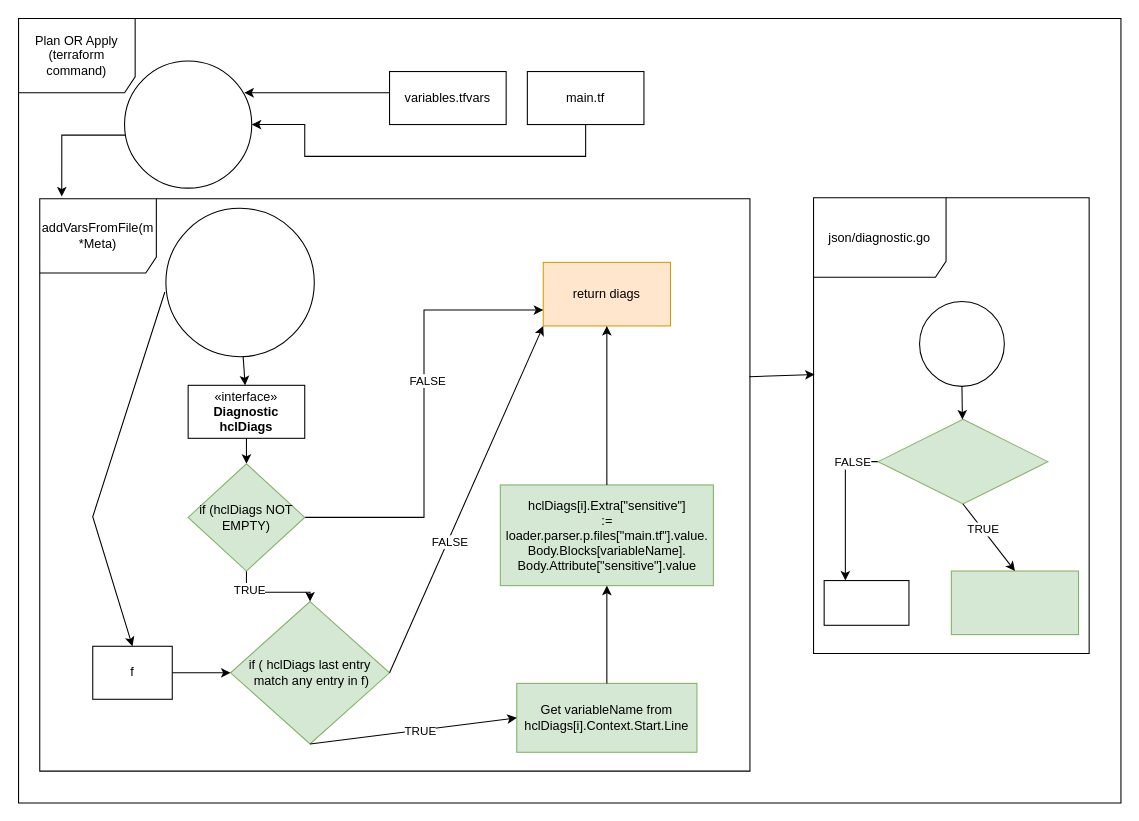
This 1139x821 diagram has some shape labels left out. Here are the shapes that lost their labels. From the top down, the centre of each, then its label:
the point at 187,124: GatherVariable -> collectVariableValues
the point at 239,282: loader, _ := m.initConfigLoader() f, hclDiags = hclsyntax.ParseConfig()
the point at 961,343: diag
the point at 962,461: if diag.Extra["sensitive]
the point at 866,602: do nothing
the point at 1014,602: codeStr := "(SENSITIVE)"
